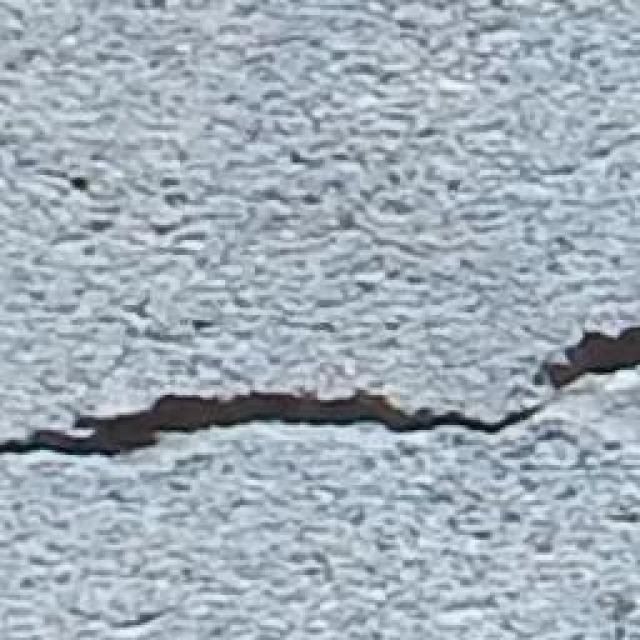concrete-crack: (2, 326, 640, 464)
